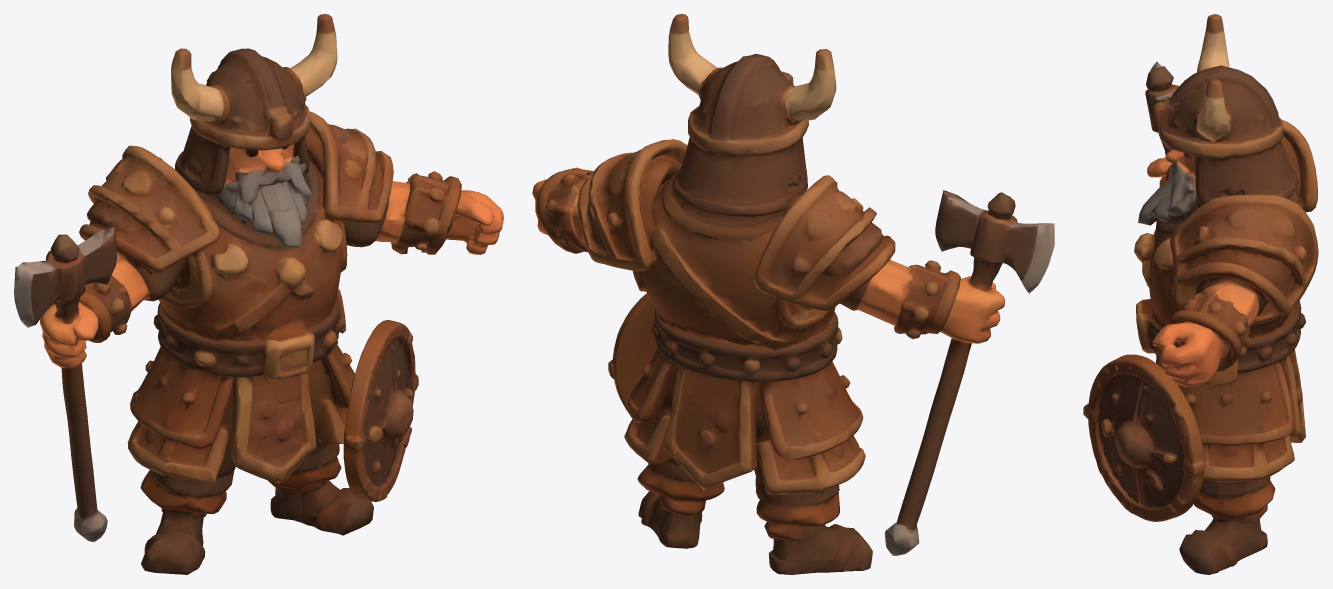
Rendered from bandit_heavy.glb.
3 views of the same model, side by side, from view 1: azimuth 30°, elevation 25°; view 2: azimuth 150°, elevation 25°; view 3: azimuth 270°, elevation 25° (orthographic). The views are drawn at different scales.
Visible parts, largest first — view 1: tripo_node_918614b2-28ca-48c8-8c1f-f9c4c0ae959c; view 2: tripo_node_918614b2-28ca-48c8-8c1f-f9c4c0ae959c; view 3: tripo_node_918614b2-28ca-48c8-8c1f-f9c4c0ae959c.
Boxes of the visible parts, x1=… form: tripo_node_918614b2-28ca-48c8-8c1f-f9c4c0ae959c: x1=14, y1=14, x2=503, y2=574; tripo_node_918614b2-28ca-48c8-8c1f-f9c4c0ae959c: x1=532, y1=14, x2=1054, y2=574; tripo_node_918614b2-28ca-48c8-8c1f-f9c4c0ae959c: x1=1083, y1=14, x2=1318, y2=574.
Bounding box in the file's own units: 1 × 0.9734 × 0.4349.
Materials: 1 (1 with a texture image).
